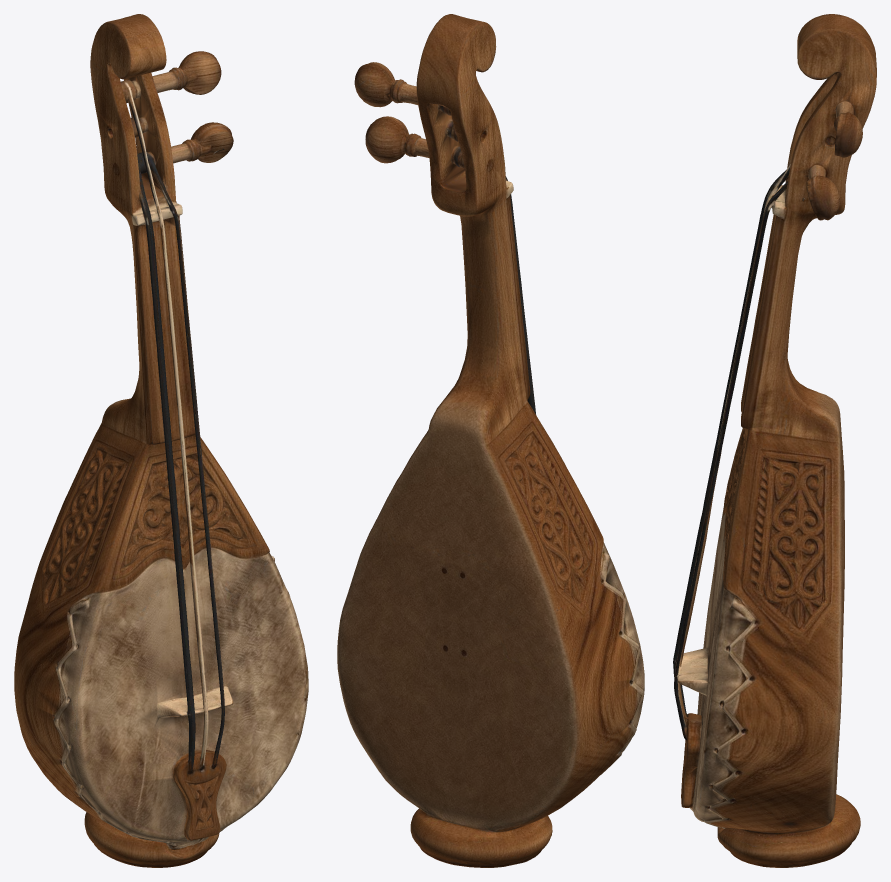
The model's file is sherter.glb.
3 renders of one model, left to right at view 1: azimuth 30°, elevation 25°; view 2: azimuth 150°, elevation 25°; view 3: azimuth 270°, elevation 25°, orthographic. The views are drawn at different scales.
Size of the model in its own units: 0.6002 by 1.9 by 0.4261.
Materials: 1 (1 with a texture image).
